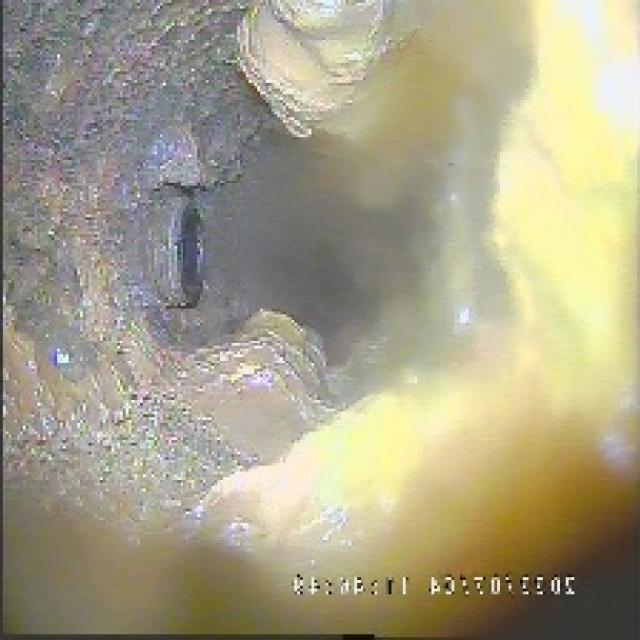encrustation: (80, 11, 383, 432)
ferrule: (134, 191, 212, 306)
